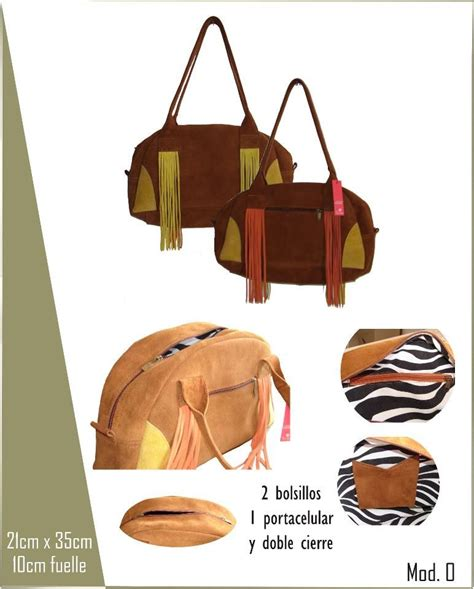gamuza: (90, 5, 375, 468)
